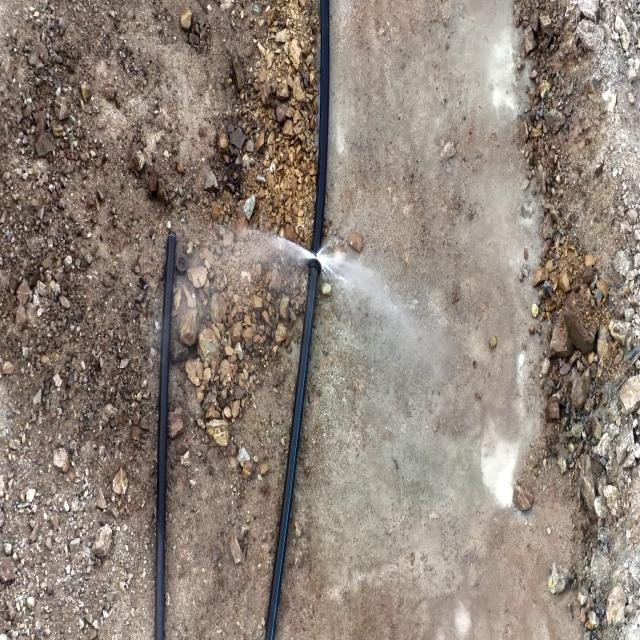leak: (208, 216, 399, 338)
